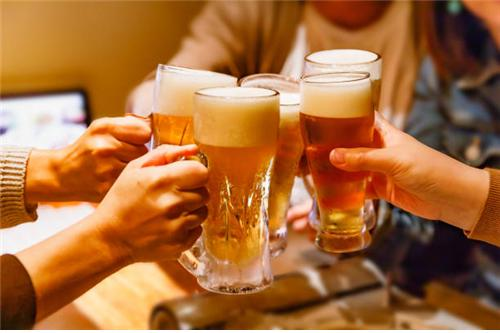alcohol: (192, 89, 281, 295), (300, 72, 373, 254), (237, 74, 303, 260), (152, 63, 241, 160), (303, 49, 382, 112)
